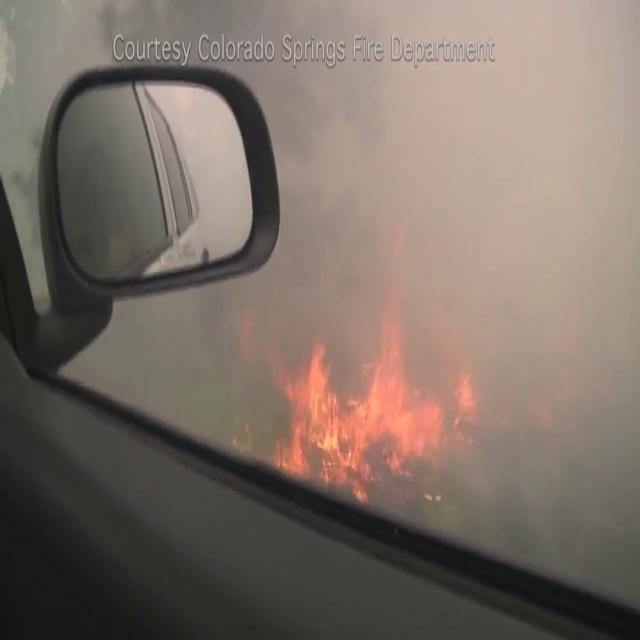Fire: (274, 309, 452, 497)
Smoke: (264, 0, 639, 589)
